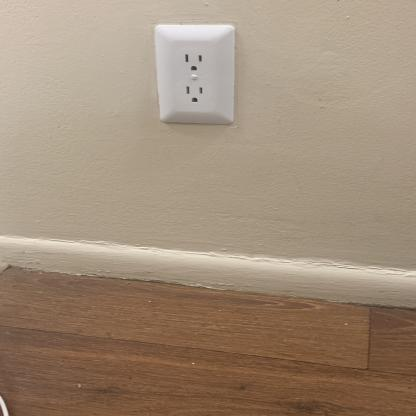OUTLET: (154, 23, 238, 126)
